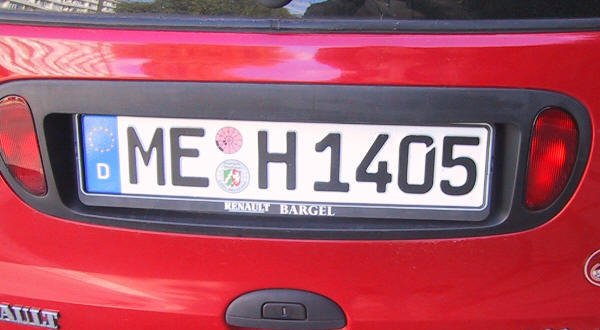license_plate: (74, 113, 491, 208)
